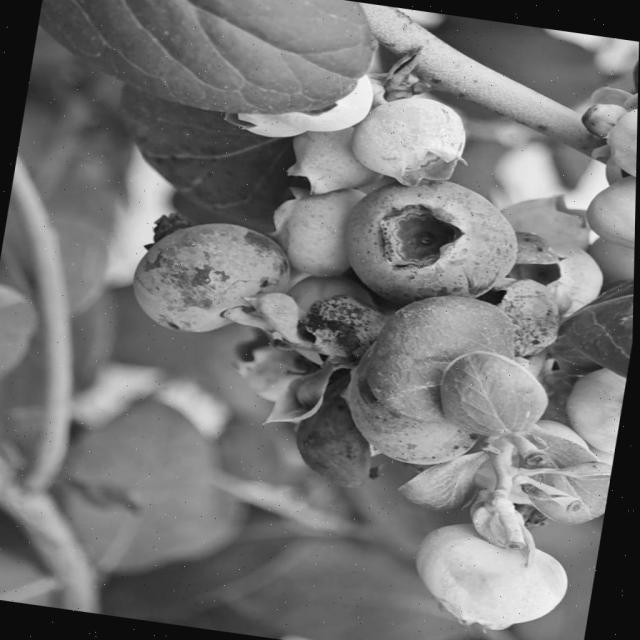RipeBlueBerry: (330, 165, 532, 318), (123, 208, 301, 350)
UnripeBlueBerry: (402, 519, 579, 640), (347, 88, 472, 188), (579, 167, 637, 257), (602, 98, 638, 185)
